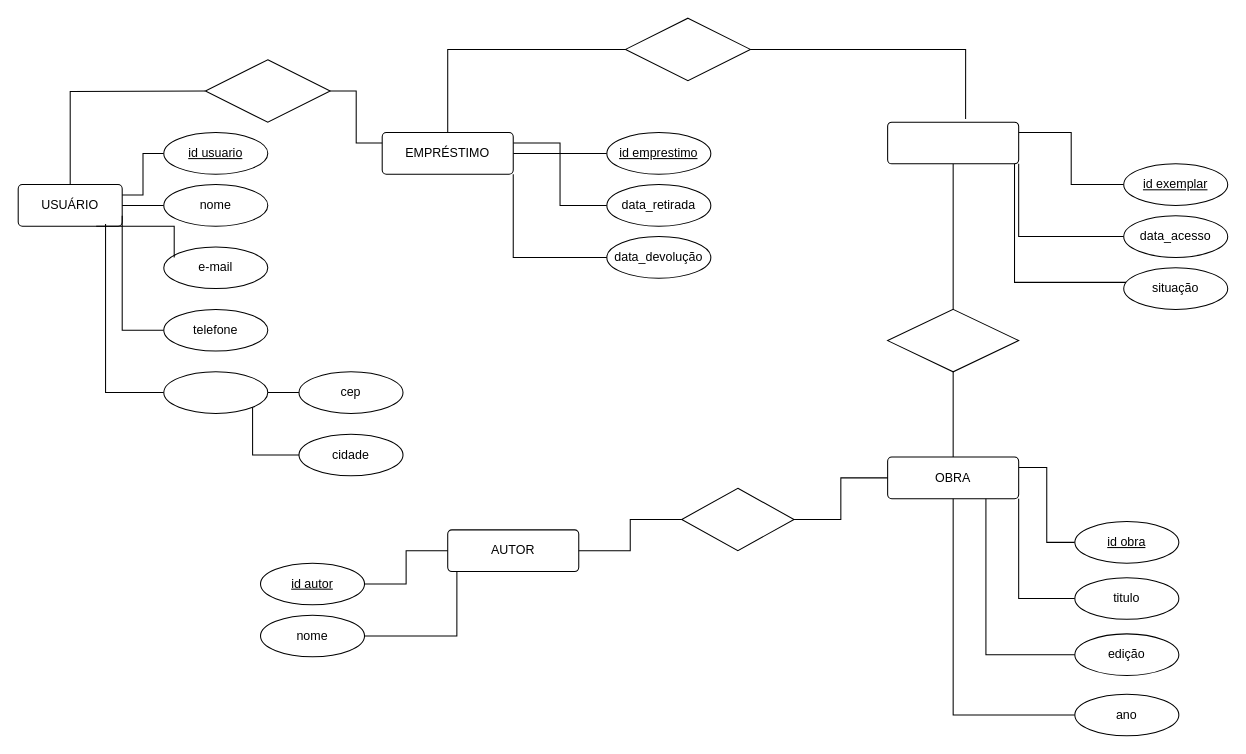
This 1246x754 diagram has some shape labels left out. Here are the shapes that lost their labels. From the top down, the box of each, then its label:
(625, 17, 750, 81): REFERE-SE
(204, 59, 330, 122): REALIZA
(887, 121, 1019, 164): EXEMPLAR
(887, 308, 1019, 372): COPIA
(163, 371, 268, 413): endereço
(681, 487, 794, 551): ESCREVE
